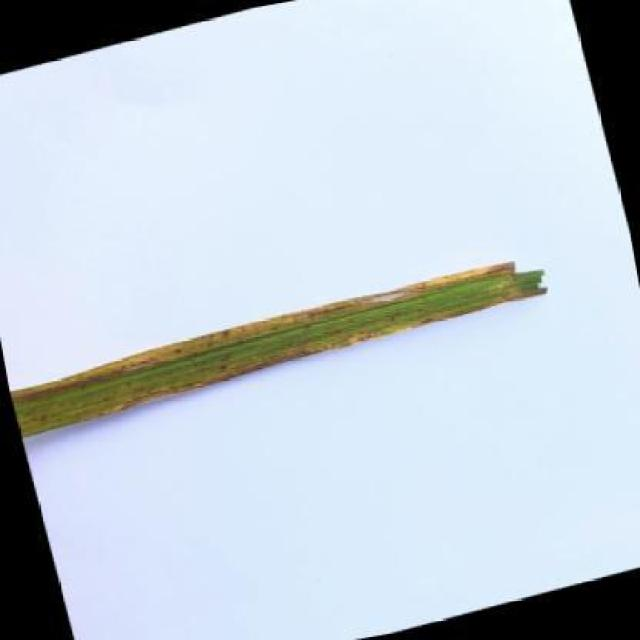Rice False Smut: (2, 253, 555, 436)
